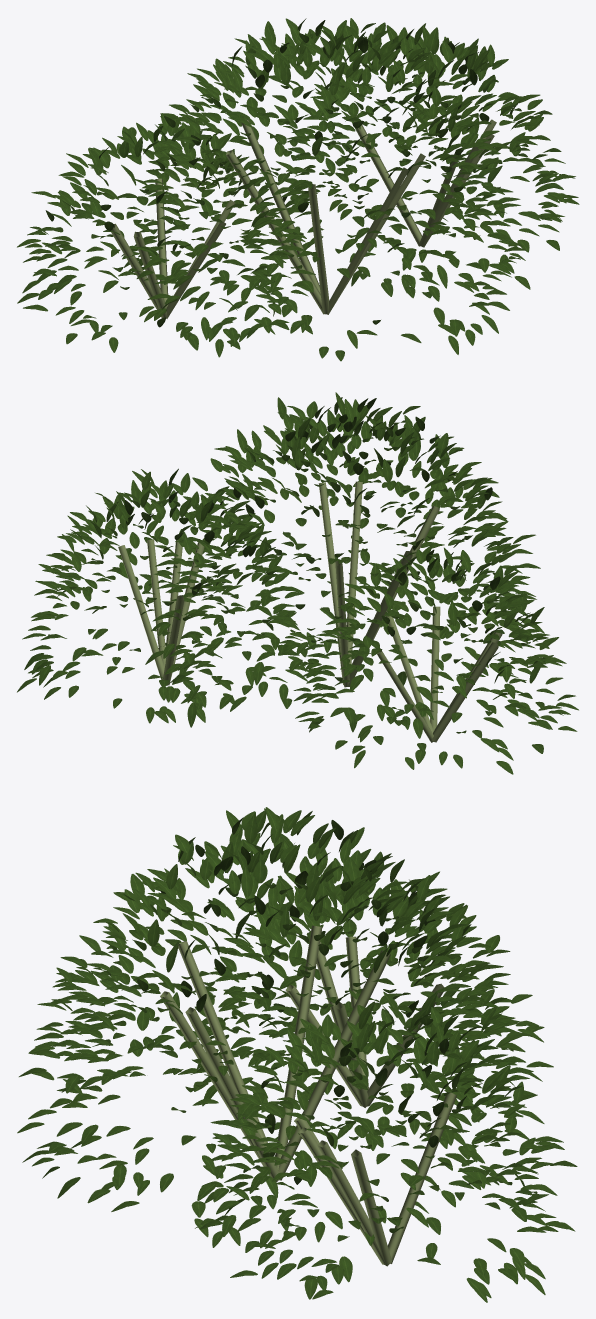
File: yh_shrub.glb
3 renders of one model, top to bottom at view 1: azimuth 30°, elevation 25°; view 2: azimuth 150°, elevation 25°; view 3: azimuth 270°, elevation 25°, orthographic. The views are drawn at different scales.
Visible parts, largest first — view 1: yh_shrub_花叶, yh_shrub_茎; view 2: yh_shrub_花叶, yh_shrub_茎; view 3: yh_shrub_花叶, yh_shrub_茎.
Part boxes in pixels (x1,y1,x2,y2): yh_shrub_花叶: (17,18,579,361); yh_shrub_茎: (111,115,496,318); yh_shrub_花叶: (17,392,578,774); yh_shrub_茎: (118,481,502,742); yh_shrub_花叶: (17,807,577,1302); yh_shrub_茎: (160,925,456,1266).
Bounding box in the file's own units: 1.9 × 0.9999 × 1.44.
2 materials, 1 textured.
